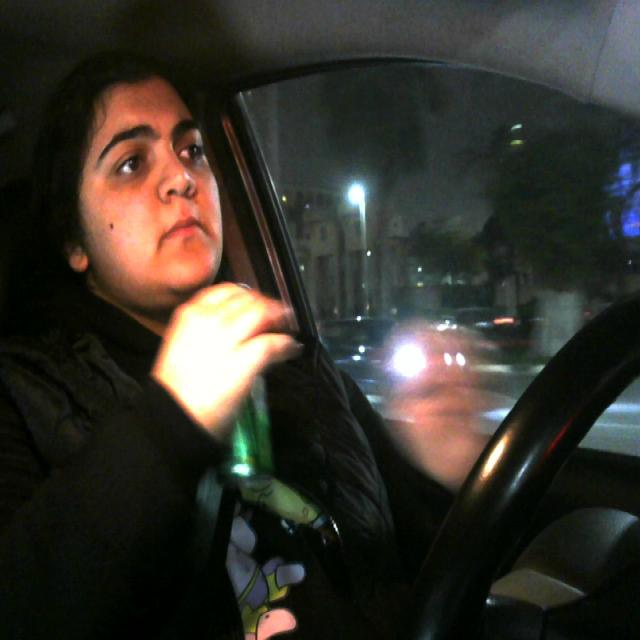drinking: (213, 300, 276, 489)
